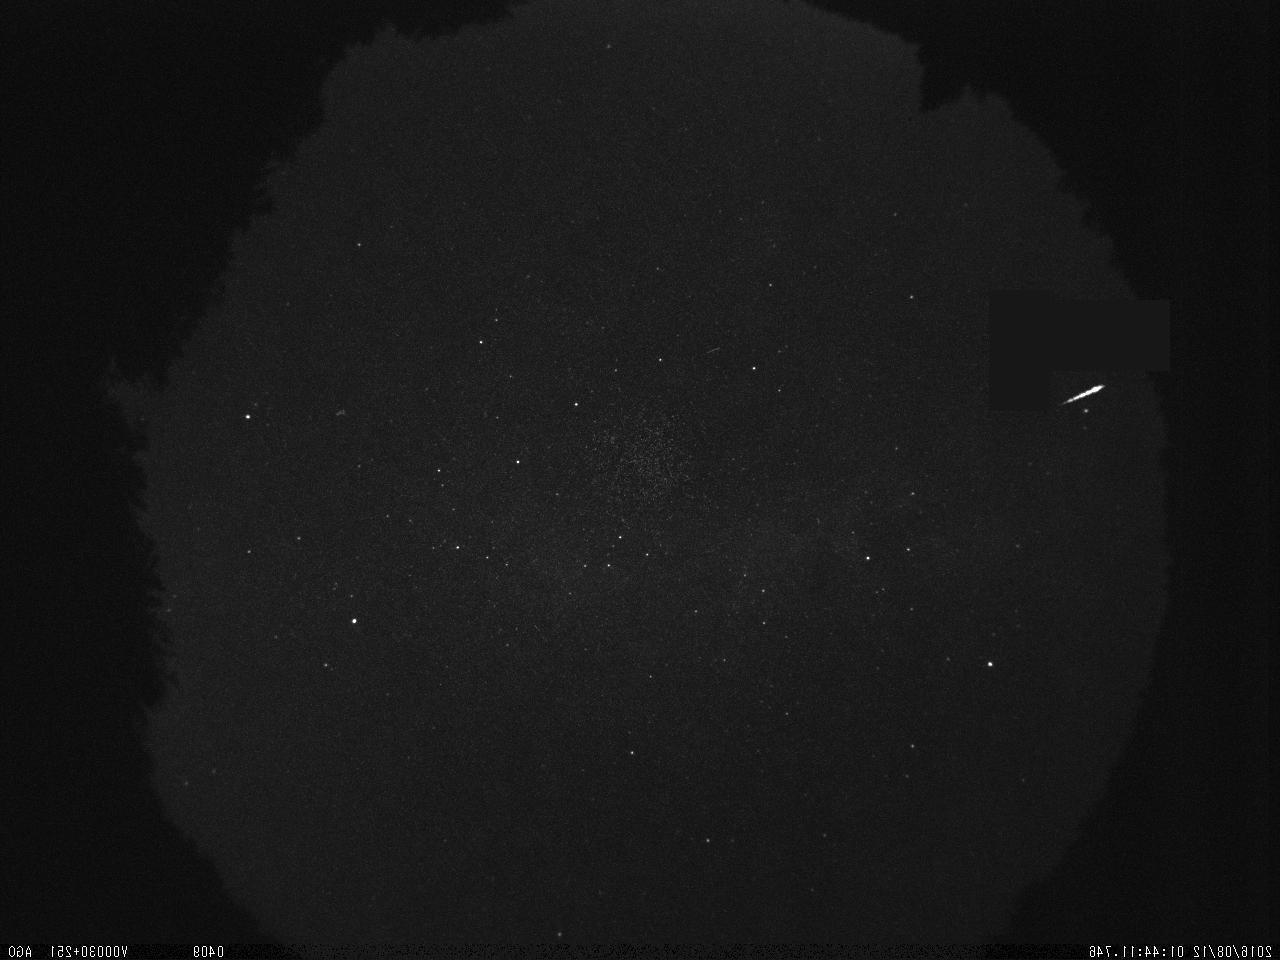meteor: (1052, 377, 1111, 416)
